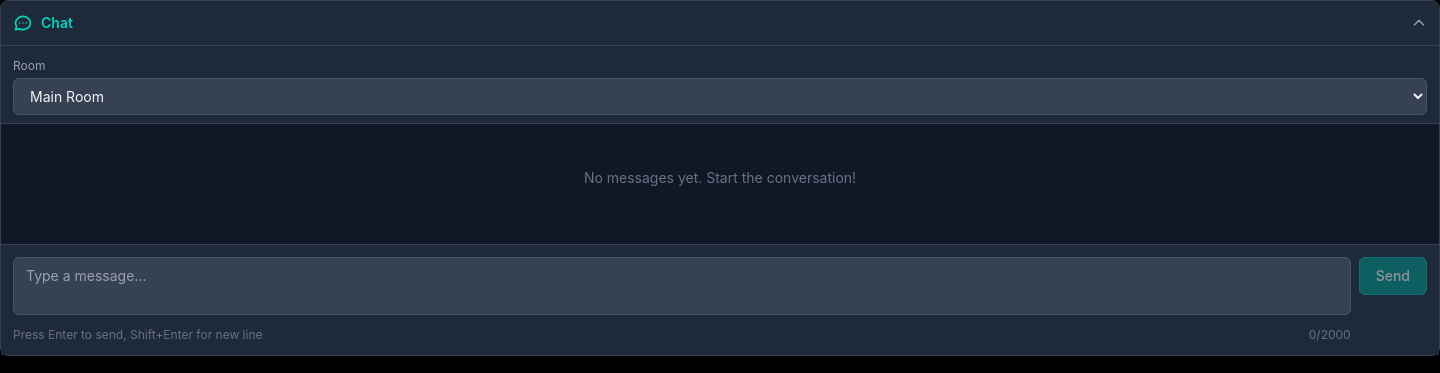
Test case: ChatPanel Component › Character Counter › updates character count as user types
Note: Type message
Type "Hello" into the text box with placeholder "Type a message...".
click(682, 286); type("Hello")  # box [13,257,1351,315]
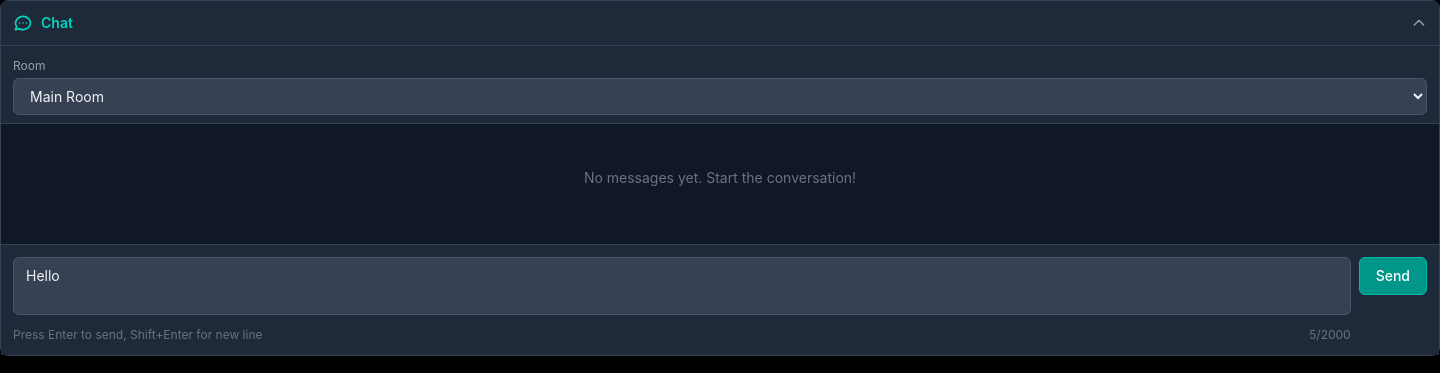
Expected: the text "5/2000" is shown, [1309,327,1351,343]
